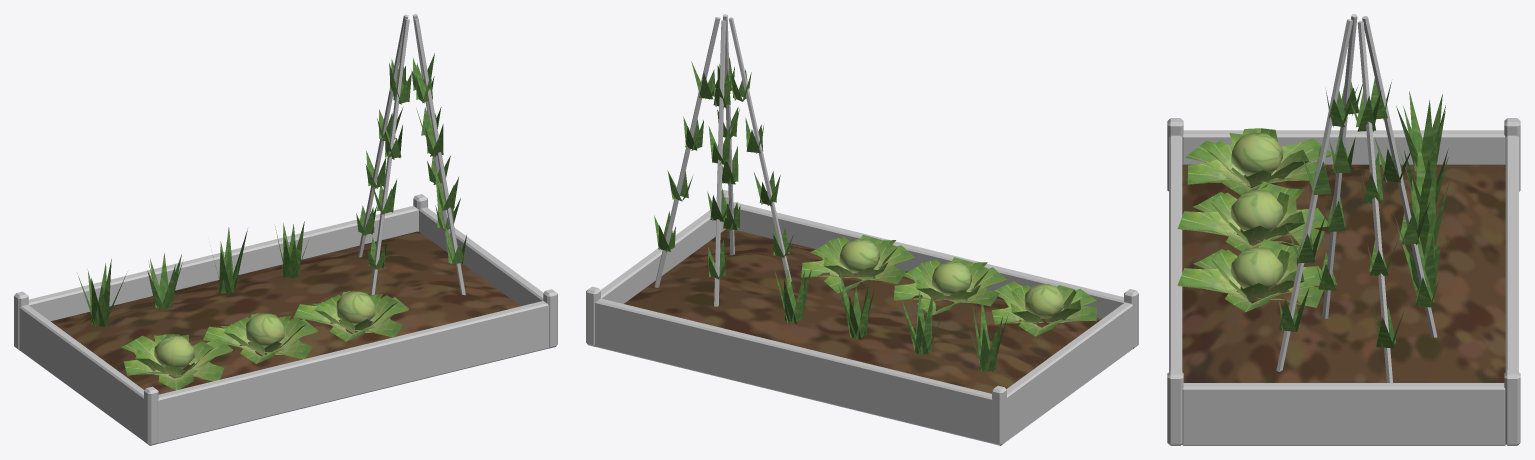
Rendered from SE_Garden.glb.
3 renders of one model, left to right at view 1: azimuth 30°, elevation 25°; view 2: azimuth 150°, elevation 25°; view 3: azimuth 270°, elevation 25°, orthographic. The views are drawn at different scales.
Visible parts, largest first — view 1: SE_Garden; view 2: SE_Garden; view 3: SE_Garden.
Boxes of the visible parts, box(x1,y1,x2,y2) form: SE_Garden: box(14, 14, 557, 445); SE_Garden: box(586, 14, 1138, 445); SE_Garden: box(1167, 14, 1520, 445).
Bounding box in the file's own units: 2.26 × 1.55 × 1.3.
